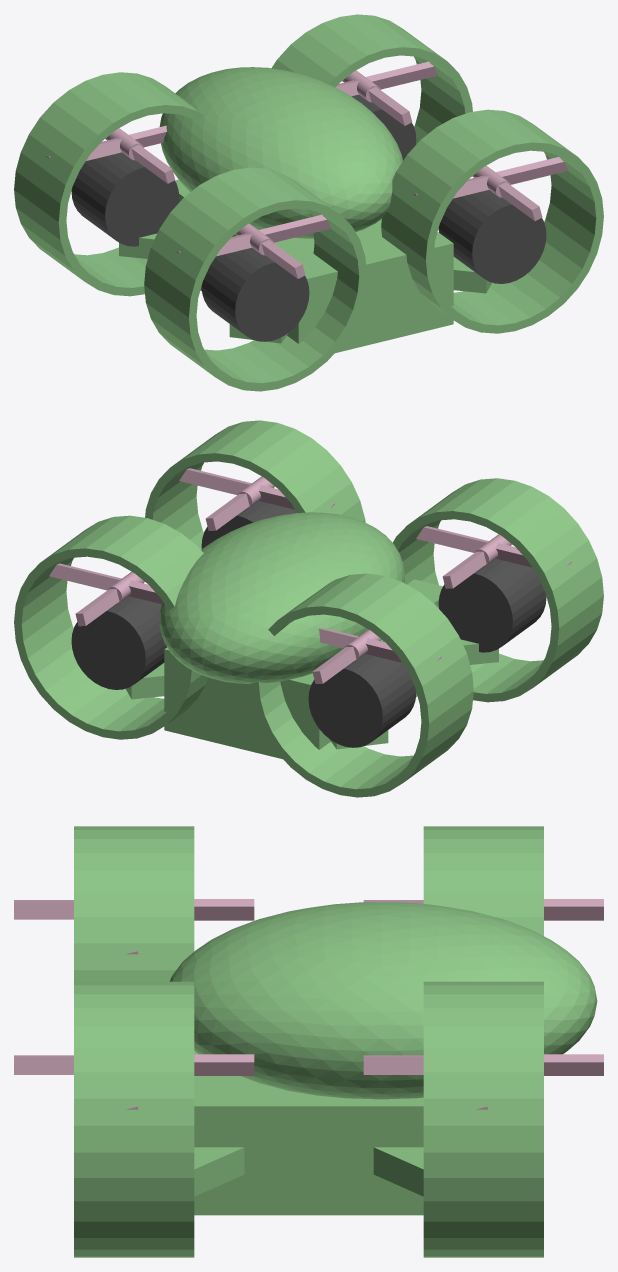
The model's file is AcroBee PMB.glb.
3 renders of one model, top to bottom at view 1: azimuth 30°, elevation 25°; view 2: azimuth 150°, elevation 25°; view 3: azimuth 270°, elevation 25°, orthographic. The views are drawn at different scales.
Visible parts, largest first — view 1: canopy, duct_0, duct_2, duct_3, frame_body, duct_1, motor_2, motor_0, motor_3, prop_0, prop_2, prop_1 (+4 smaller); view 2: canopy, duct_3, duct_1, duct_2, duct_0, frame_body, motor_3, motor_2, motor_1, prop_2, prop_0, prop_1 (+4 smaller); view 3: canopy, duct_0, duct_1, frame_body, duct_2, duct_3, prop_2, prop_0, prop_1, arm_0, arm_1, prop_3.
Part boxes in pixels (x1,y1,x2,y2): canopy: (159,67,402,238); duct_0: (381,109,603,333); duct_2: (144,167,366,391); duct_3: (14,72,203,296); frame_body: (175,179,453,353); duct_1: (271,14,472,144); motor_2: (201,247,309,341); motor_0: (438,190,546,283); motor_3: (71,152,179,246); prop_0: (412,157,568,220); prop_2: (175,214,331,278); prop_1: (336,61,437,125); canopy: (159,512,404,683); duct_3: (251,573,473,797); duct_1: (14,515,207,739); duct_2: (392,478,603,702); duct_0: (145,420,365,549); frame_body: (164,579,442,759); motor_3: (308,654,416,747); motor_2: (438,558,546,652); motor_1: (71,596,166,689); prop_2: (416,526,571,588); prop_0: (179,468,334,530); prop_1: (49,563,162,626); canopy: (169,902,597,1099); duct_0: (74,981,194,1257); duct_1: (423,981,543,1257); frame_body: (194,1051,423,1215); duct_2: (74,826,194,981); duct_3: (423,826,543,935); prop_2: (14,899,254,954); prop_0: (14,1054,254,1109); prop_1: (363,1054,603,1109); arm_0: (194,1147,244,1196); arm_1: (373,1147,423,1196); prop_3: (363,899,603,920).
Bounding box in the file's own units: 0.1072 × 0.046 × 0.0982.
